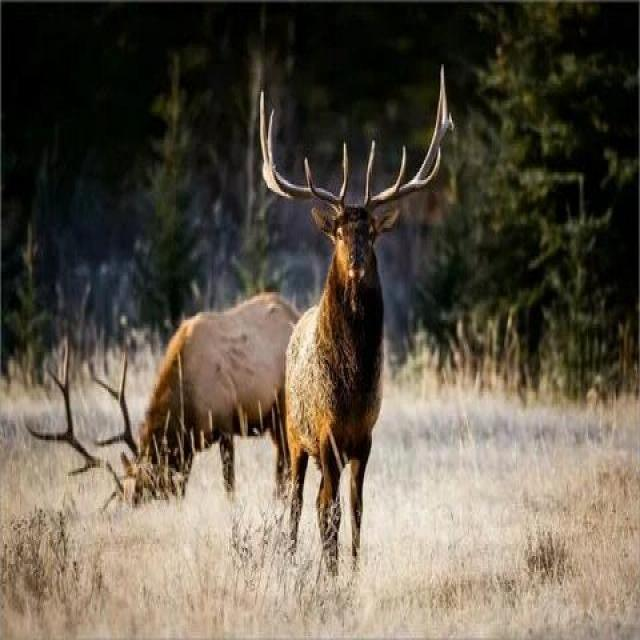deer: (266, 152, 499, 589), (146, 253, 318, 563)
